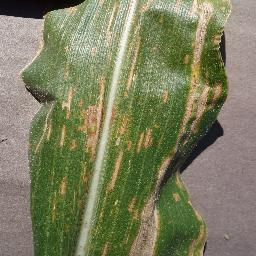Gray_Leaf_Spot: (173, 0, 235, 161), (57, 73, 130, 201), (88, 0, 165, 71), (127, 198, 164, 256), (151, 160, 193, 199), (89, 200, 118, 256), (27, 101, 55, 158), (47, 201, 85, 231), (186, 213, 212, 256), (129, 125, 158, 156), (30, 10, 48, 49), (18, 49, 43, 77), (157, 84, 172, 108), (63, 2, 79, 19), (60, 43, 73, 54)
